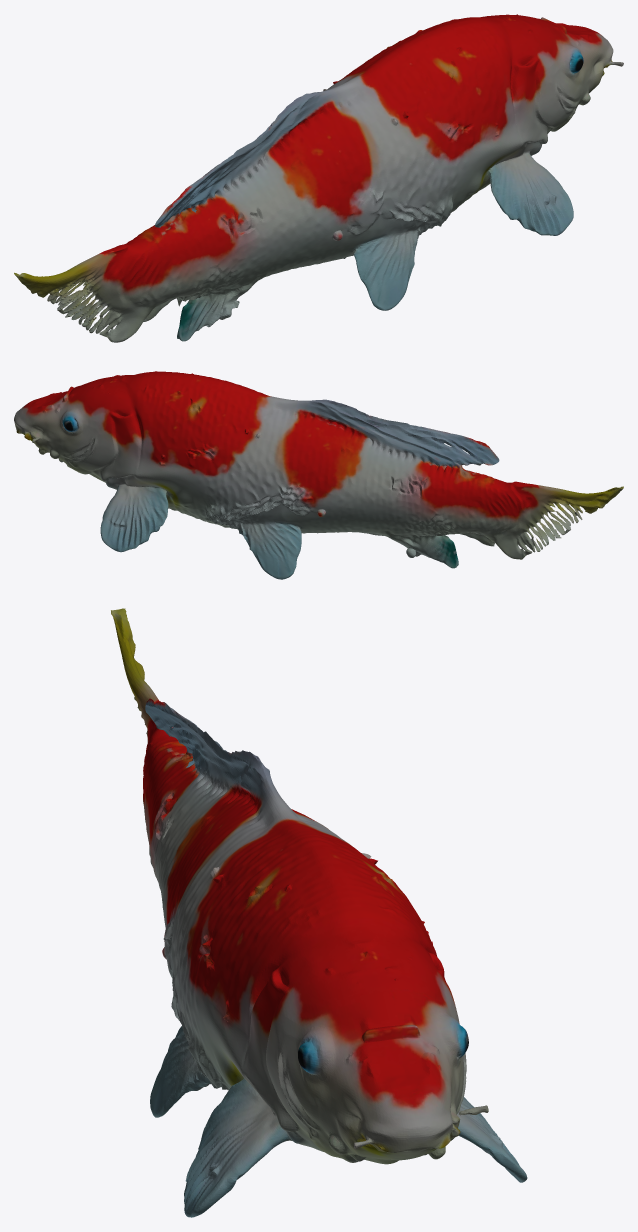
The model's file is koi+fish+3d+model.glb.
3 views of the same model, one above another, from view 1: azimuth 30°, elevation 25°; view 2: azimuth 150°, elevation 25°; view 3: azimuth 270°, elevation 25° (orthographic). The views are drawn at different scales.
Parts seen in each view (by area): view 1: tripo_node_bdf6ae12-bd74-4c18-a4e0-ef7311188599; view 2: tripo_node_bdf6ae12-bd74-4c18-a4e0-ef7311188599; view 3: tripo_node_bdf6ae12-bd74-4c18-a4e0-ef7311188599.
Part boxes in pixels (bbox=[...]): tripo_node_bdf6ae12-bd74-4c18-a4e0-ef7311188599: bbox=[14, 14, 623, 342]; tripo_node_bdf6ae12-bd74-4c18-a4e0-ef7311188599: bbox=[14, 371, 623, 579]; tripo_node_bdf6ae12-bd74-4c18-a4e0-ef7311188599: bbox=[111, 608, 527, 1217].
Size of the model in its own units: 0.973 by 0.287 by 0.3287.
